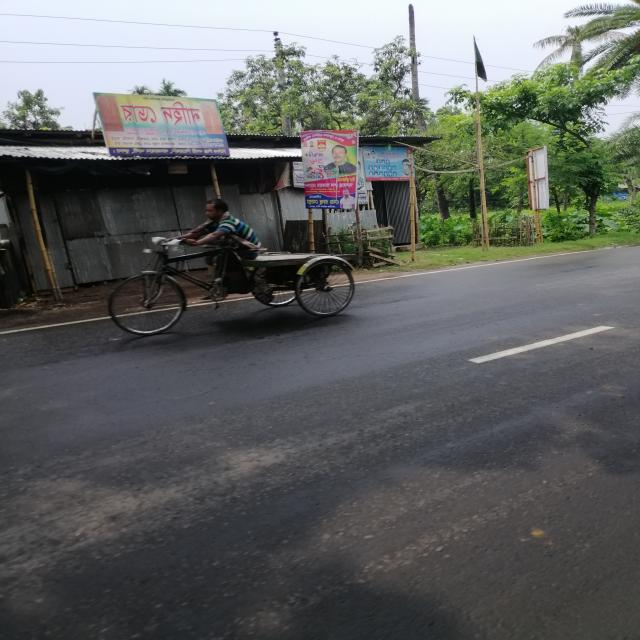Van: (92, 240, 361, 345)
